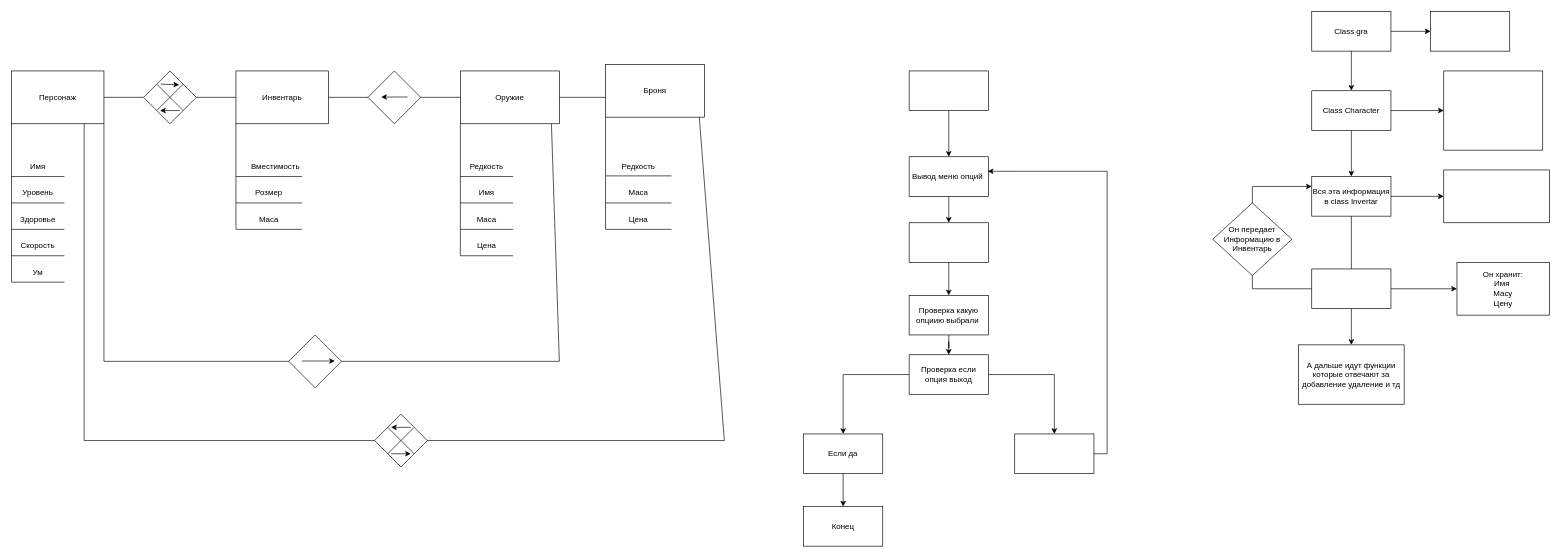
Some shapes in this 1561 by 558 pixel diagram are drawn without their labels. The centre of each missing label's shape, as x and y in pixels:
"Выбор опции" belongs at pixel 948 242.
"Дальше идет class Predmet" belongs at pixel 1351 288.
"Если нет" belongs at pixel 1054 453.
"Он хранит список персонажей и тд" belongs at pixel 1470 31.
"Он хранит: Вместимость Сколько есть места и предметы" belongs at pixel 1496 196.
"Он хранит: Имя Айди Характеристики вашего персонажа И сколько у вас есть денег" belongs at pixel 1493 110.
"Статр программы" belongs at pixel 948 90.
